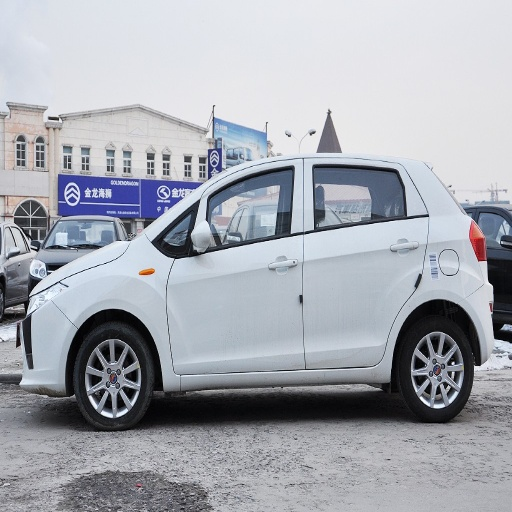back_left_door: (305, 158, 430, 366)
